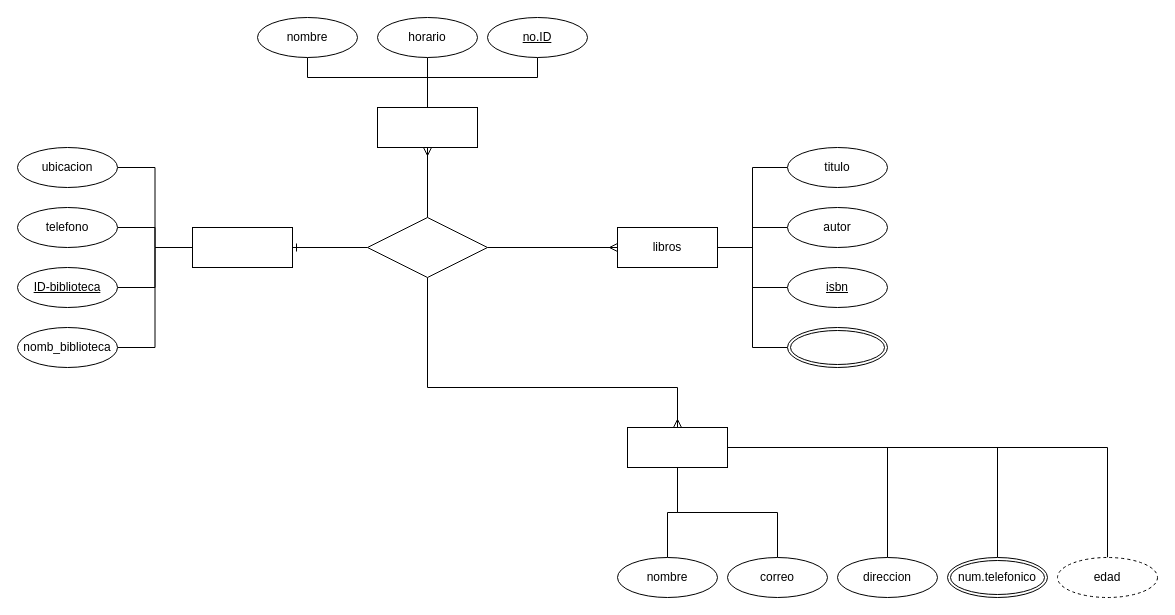
Image size: 1175x615. Some labels were removed from this diagram. The box of each missing label's shape, as (x1, y1, x2, y2) in pixels:
biblioteca: (192, 226, 292, 268)
bibliotecario: (376, 106, 478, 148)
contiene: (366, 216, 488, 278)
Genero: (786, 326, 888, 368)
usuarios: (626, 426, 728, 468)
